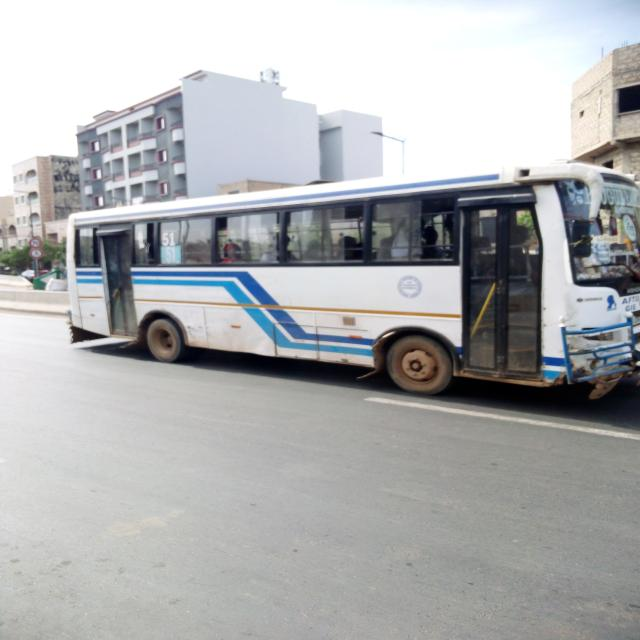bus tata: (68, 162, 640, 399)
